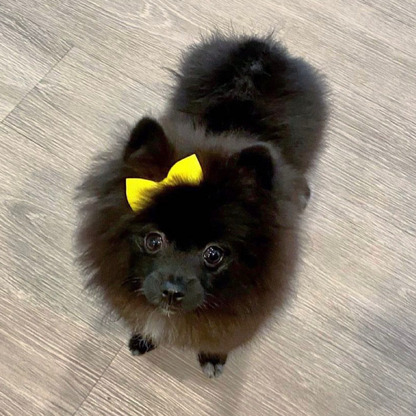Pomeranian: (48, 36, 377, 376)
